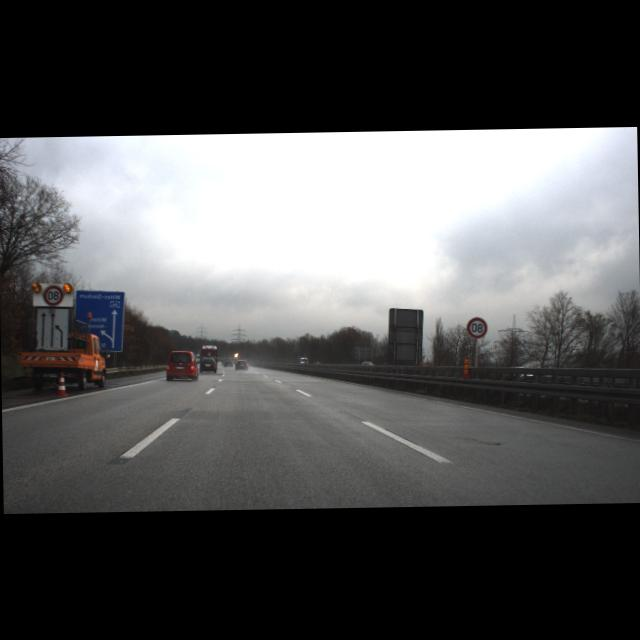prohibitory: (42, 284, 63, 305), (467, 317, 488, 338)
